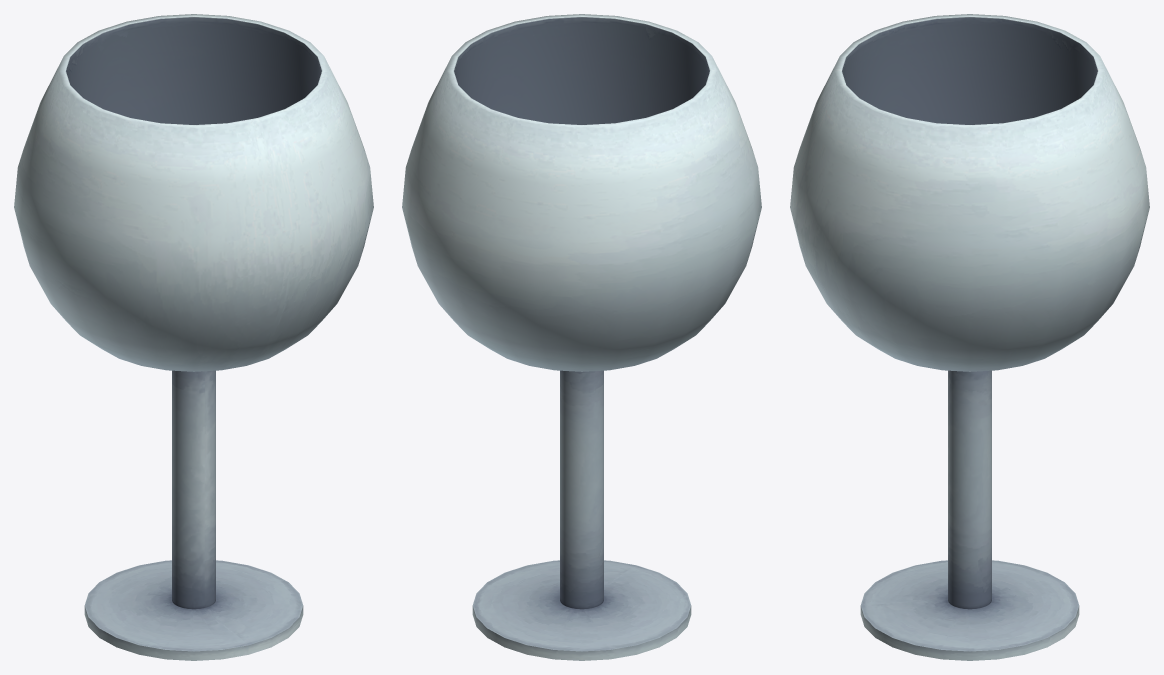
The model's file is Lv1_Copa2.fbx.
3 views of the same model, side by side, from view 1: azimuth 30°, elevation 25°; view 2: azimuth 150°, elevation 25°; view 3: azimuth 270°, elevation 25° (orthographic).
Parts seen in each view (by area): view 1: Lv1_Copa_2; view 2: Lv1_Copa_2; view 3: Lv1_Copa_2.
Boxes of the visible parts, box(x1,y1,x2,y2) form: Lv1_Copa_2: box(14, 14, 373, 660); Lv1_Copa_2: box(402, 14, 761, 660); Lv1_Copa_2: box(790, 14, 1149, 660).
Bounding box in the file's own units: 16.04 × 26.74 × 16.04.
1 material, 1 textured.
